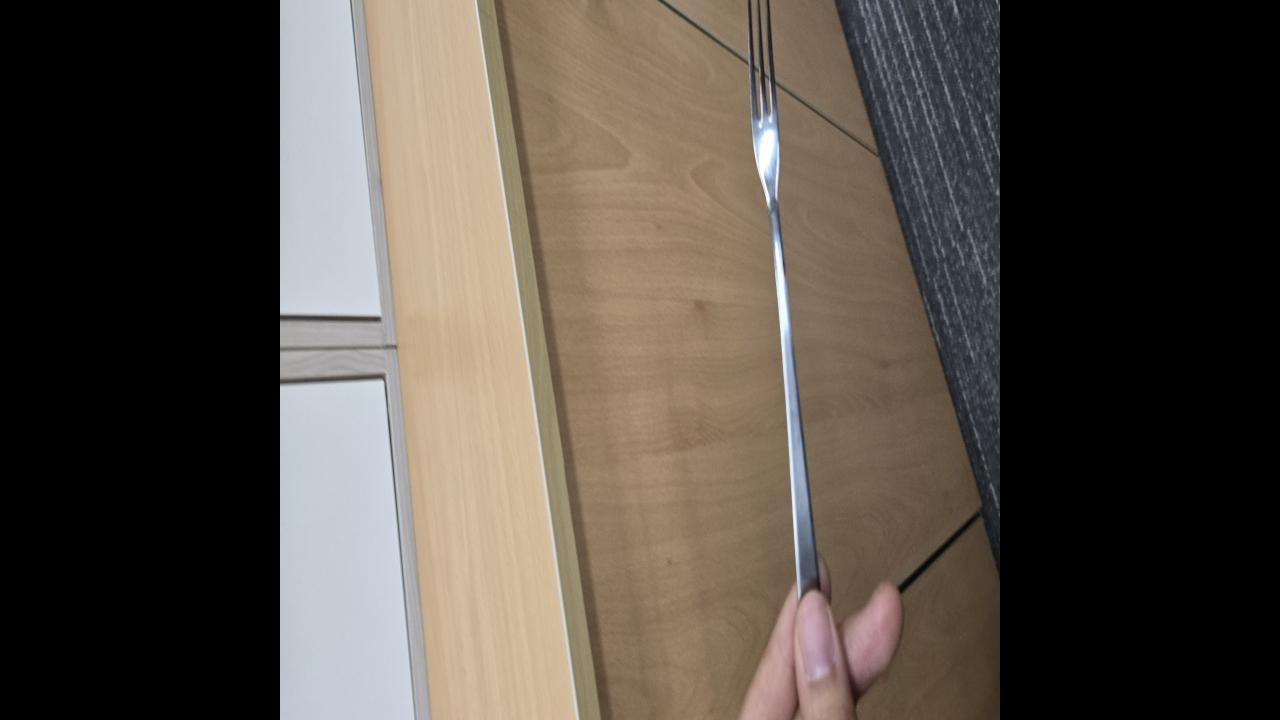fork: (744, 0, 816, 582)
